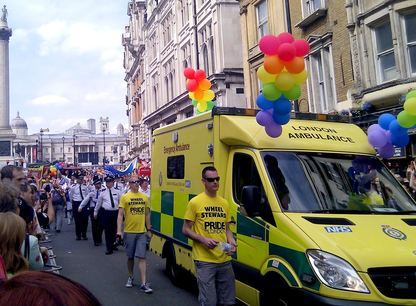ambulance: (145, 106, 414, 306)
